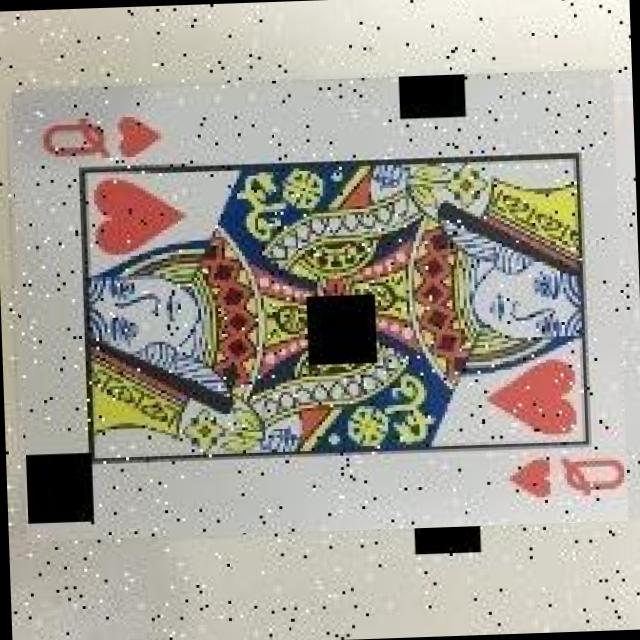Queen of hearts: (10, 69, 627, 542)
